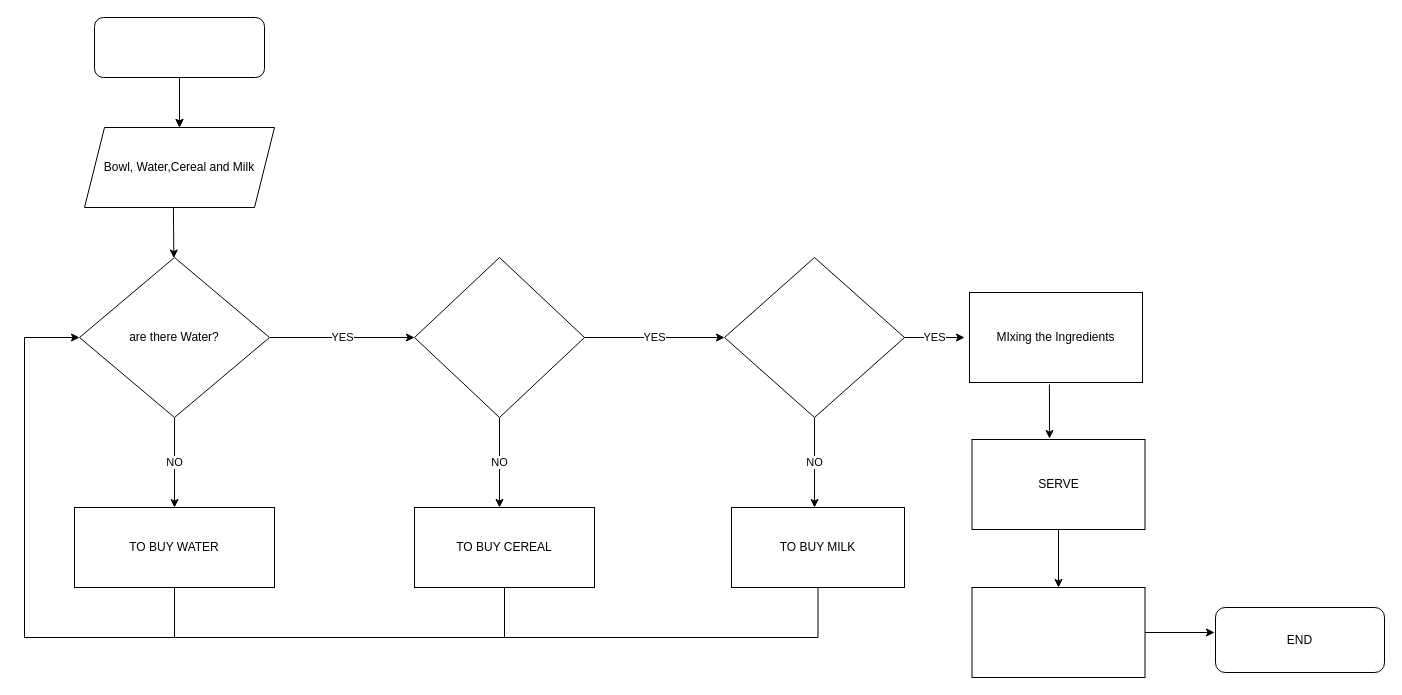
The diagram is 1402 pixels wide and 695 high, and some of its shapes have lost their labels. The shapes that lost their labels are listed below. From the top down, each one's centre as x and y in pixels, then its label:
[179,47]: START
[499,337]: are there Cereal?
[814,337]: are there Milk?
[1058,632]: EAT
